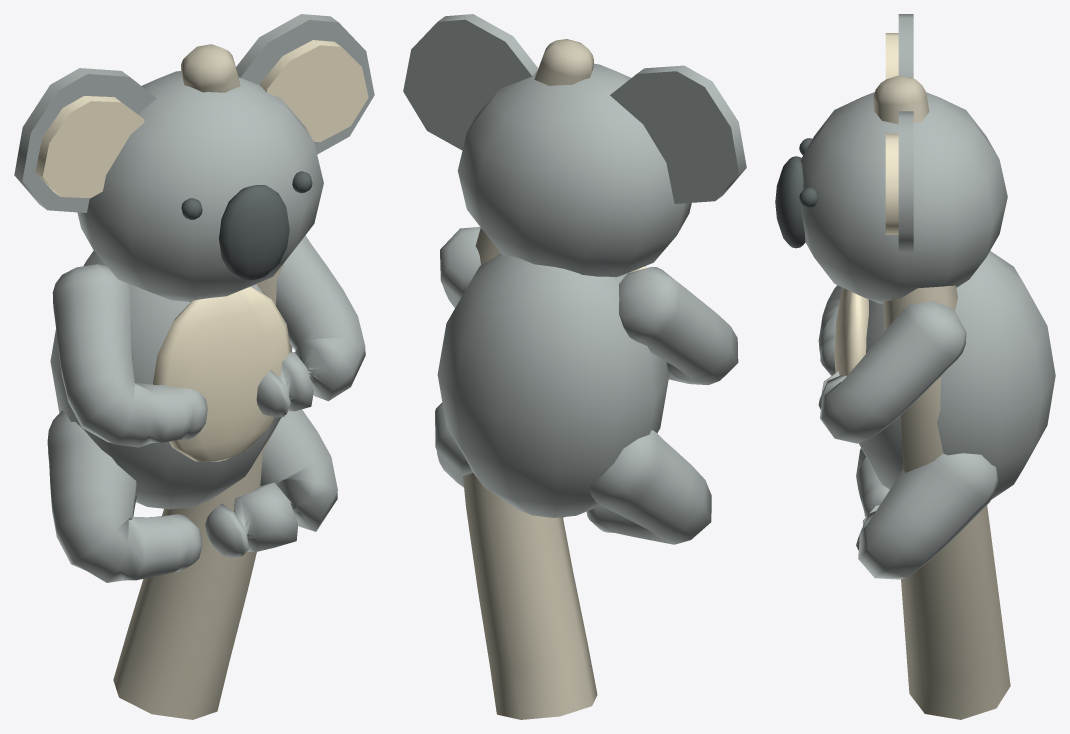
The model's file is outback-and-australian-wildlife-koala-on-branch-cae19cfe__5907.glb.
The picture shows the model from 3 angles, left to right: view 1: azimuth 30°, elevation 25°; view 2: azimuth 150°, elevation 25°; view 3: azimuth 270°, elevation 25°; orthographic projection. The views are drawn at different scales.
Parts seen in each view (by area): view 1: koala-on-branch; view 2: koala-on-branch; view 3: koala-on-branch.
Boxes of the visible parts, x1,y1,x2,y2 form: koala-on-branch: [14, 14, 374, 719]; koala-on-branch: [403, 14, 746, 719]; koala-on-branch: [775, 14, 1055, 719].
Size of the model in its own units: 0.6284 by 1.16 by 0.469.
